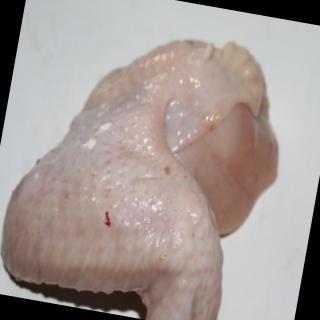Ayam: (1, 9, 297, 320)
